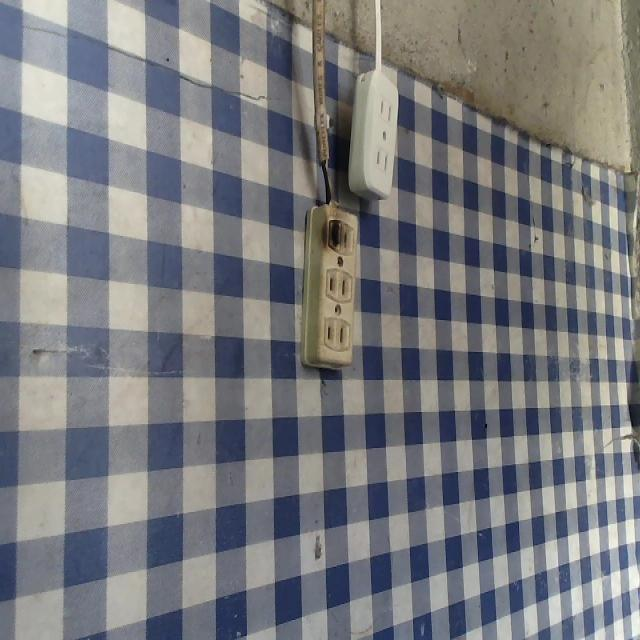-: (318, 210, 346, 258)
